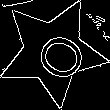O_NW: (20, 21, 85, 83)
